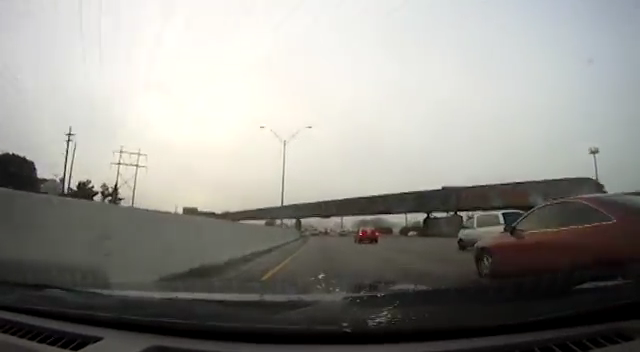car: (468, 190, 640, 290), (456, 210, 536, 251), (353, 226, 380, 244)
